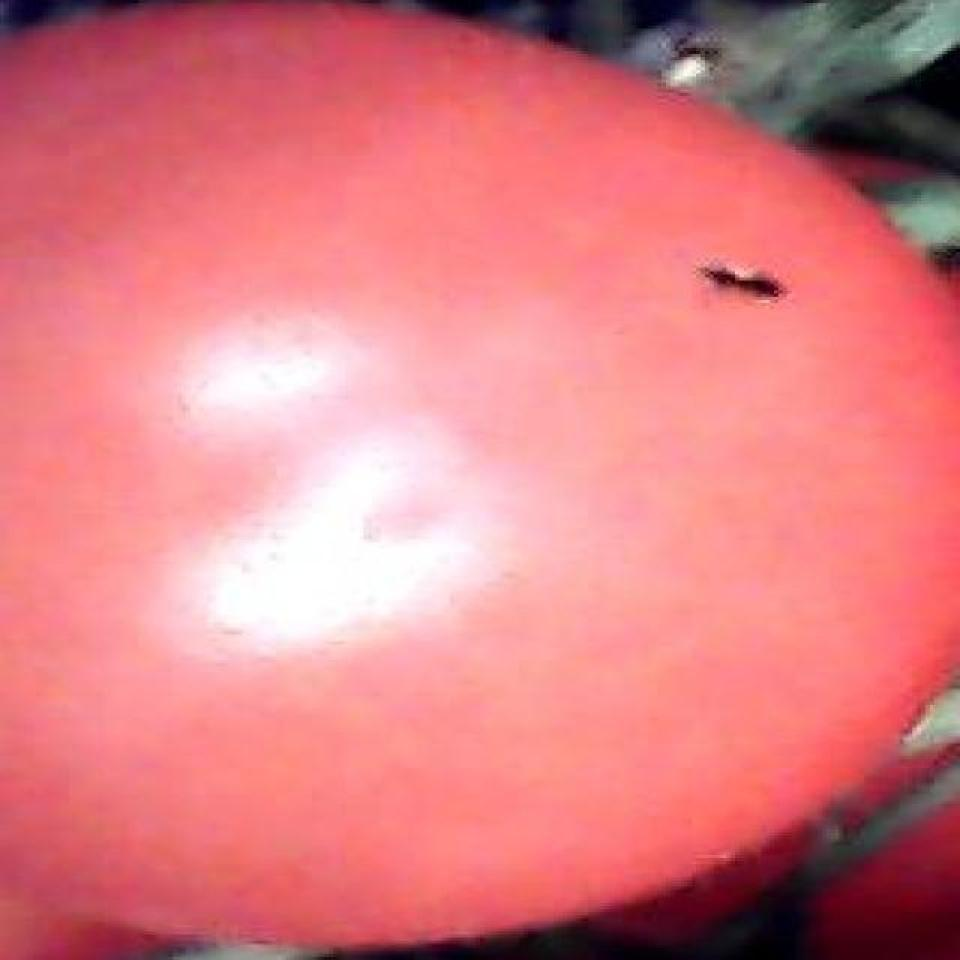Healthy: (11, 2, 960, 960)
